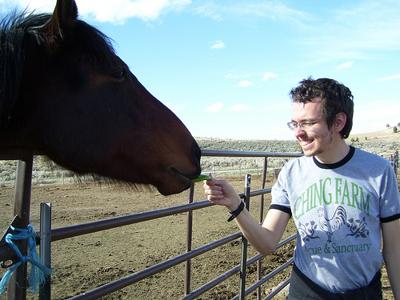person: (202, 79, 399, 300)
